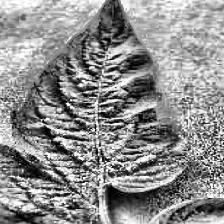spider mites: (0, 0, 184, 224)
